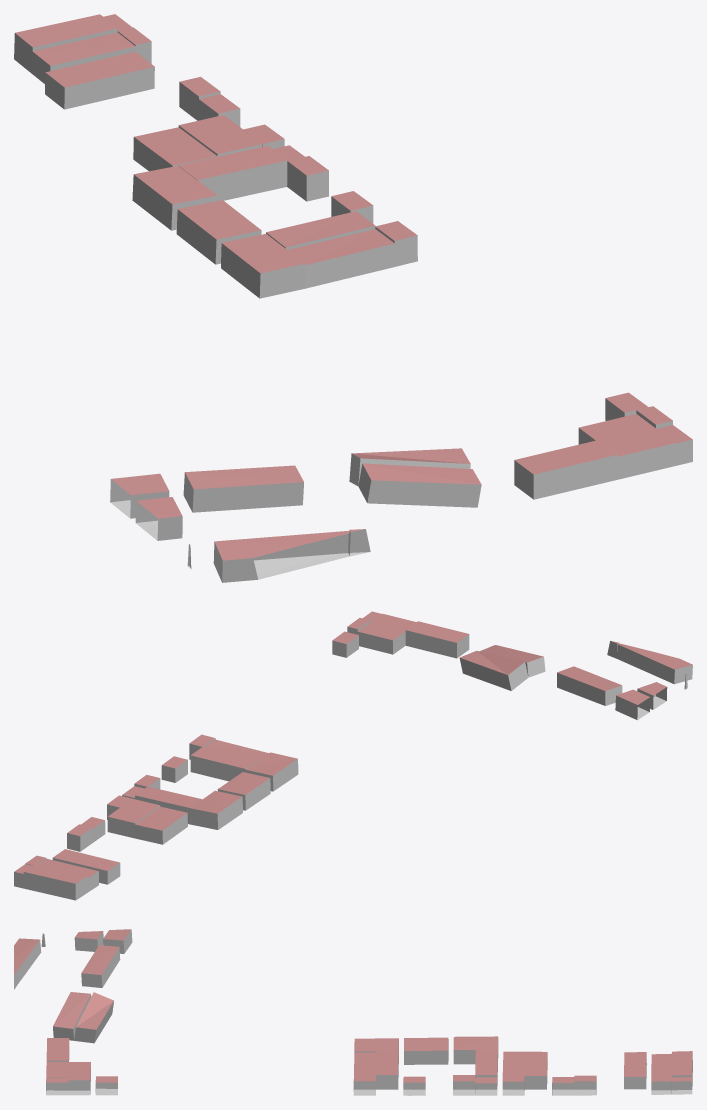
3 renders of one model, top to bottom at view 1: azimuth 30°, elevation 25°; view 2: azimuth 150°, elevation 25°; view 3: azimuth 270°, elevation 25°, orthographic. The views are drawn at different scales.
Parts seen in each view (by area): view 1: mesh_CityEngineMaterial.013; view 2: mesh_CityEngineMaterial.013; view 3: mesh_CityEngineMaterial.013.
Boxes of the visible parts, x1,y1,x2,y2 form: mesh_CityEngineMaterial.013: [14, 14, 692, 582]; mesh_CityEngineMaterial.013: [14, 611, 692, 900]; mesh_CityEngineMaterial.013: [14, 929, 692, 1095].
Size of the model in its own units: 220 by 21.62 by 458.
